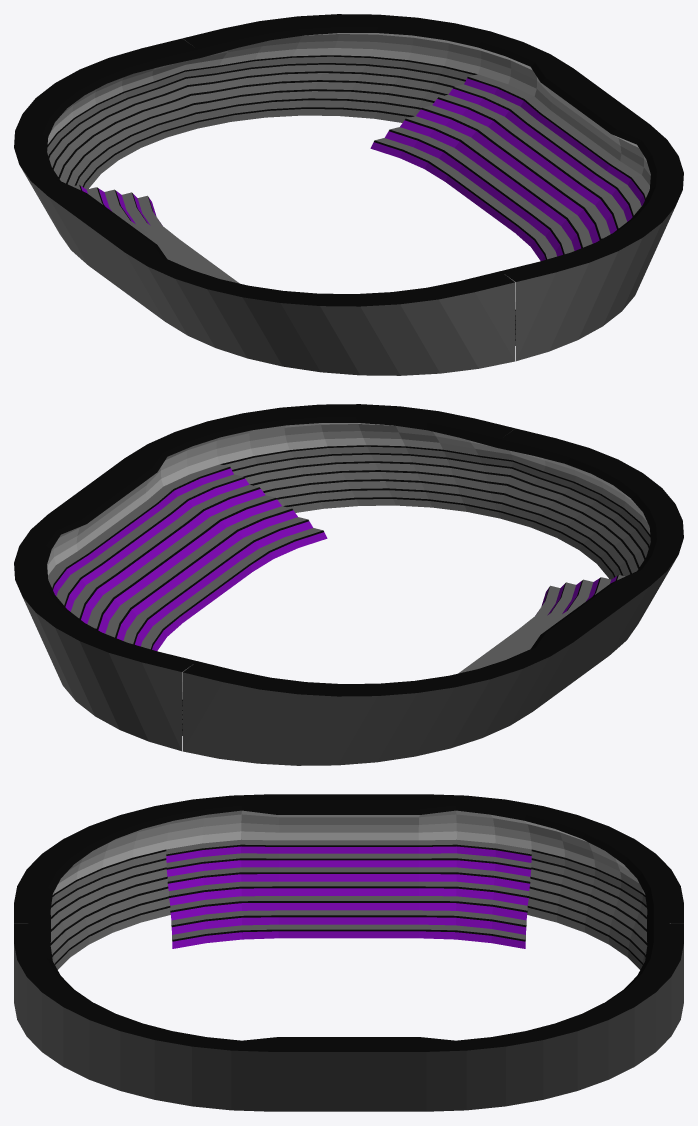
File: TheKettle.fbx
The picture shows the model from 3 angles, top to bottom: view 1: azimuth 30°, elevation 25°; view 2: azimuth 150°, elevation 25°; view 3: azimuth 270°, elevation 25°; orthographic projection.
Visible parts, largest first — view 1: Plane; view 2: Plane; view 3: Plane.
Boxes of the visible parts, x1,y1,x2,y2 form: Plane: (14, 14, 683, 375); Plane: (14, 404, 683, 765); Plane: (14, 794, 683, 1111).
Bounding box in the file's own units: 26029 × 3750 × 28600.
